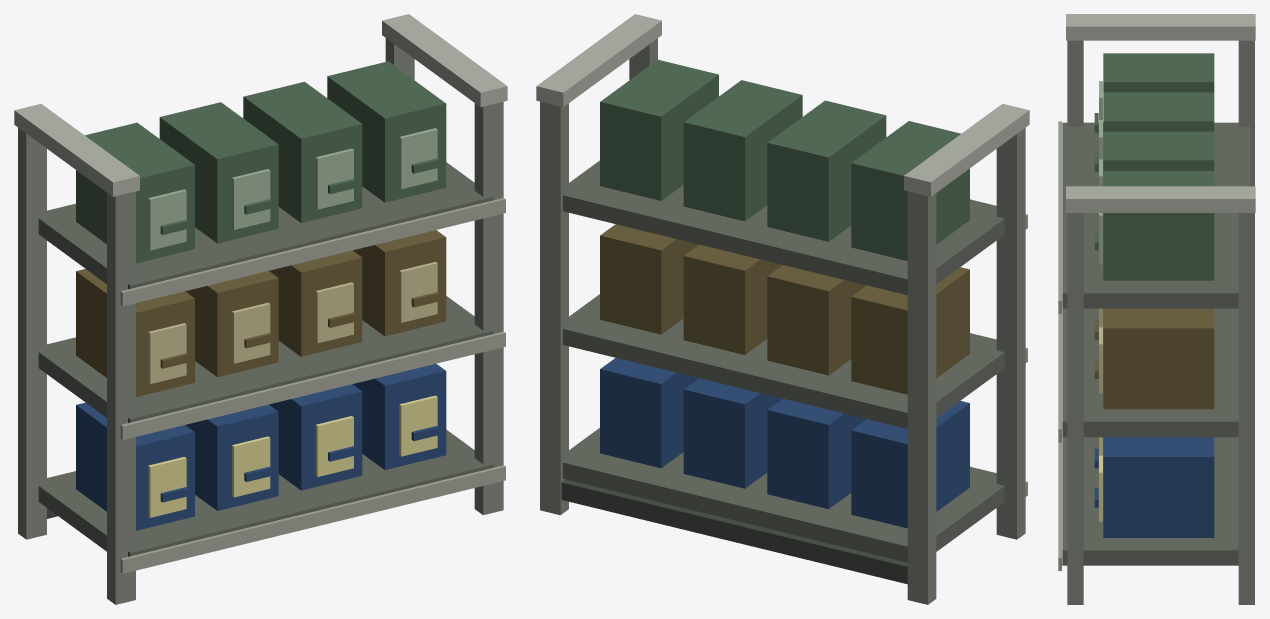
The model's file is CMU3DWeymartShelf6.glb.
3 renders of one model, left to right at view 1: azimuth 30°, elevation 25°; view 2: azimuth 150°, elevation 25°; view 3: azimuth 270°, elevation 25°, orthographic. The views are drawn at different scales.
Visible parts, largest first — view 1: product carton (×12), shelf deck (×3), shelf upright (×4), printed product label (×12), shelf pale front lip (×3), top end cap (×2); view 2: product carton (×12), shelf deck (×3), shelf upright (×3), top end cap (×2), rear base stretcher; view 3: product carton (×6), shelf deck (×3), shelf upright (×4), top end cap (×2), shelf pale front lip (×3).
Part boxes in pixels (x1,y1,x2,y2): product carton (×12): (76, 61, 446, 530); shelf deck (×3): (38, 162, 493, 556); shelf upright (×4): (18, 38, 503, 604); printed product label (×12): (148, 128, 437, 517); shelf pale front lip (×3): (120, 198, 505, 573); top end cap (×2): (14, 14, 507, 196); product carton (×12): (600, 59, 969, 528); shelf deck (×3): (563, 160, 1004, 562); shelf upright (×3): (540, 101, 1025, 604); top end cap (×2): (536, 14, 1029, 196); rear base stretcher: (561, 479, 907, 584); product carton (×6): (1103, 53, 1214, 537); shelf deck (×3): (1062, 122, 1250, 565); shelf upright (×4): (1067, 40, 1254, 604); top end cap (×2): (1066, 14, 1255, 212); shelf pale front lip (×3): (1058, 121, 1061, 570).
Bounding box in the file's own units: 0.966 × 0.9914 × 0.4356.
